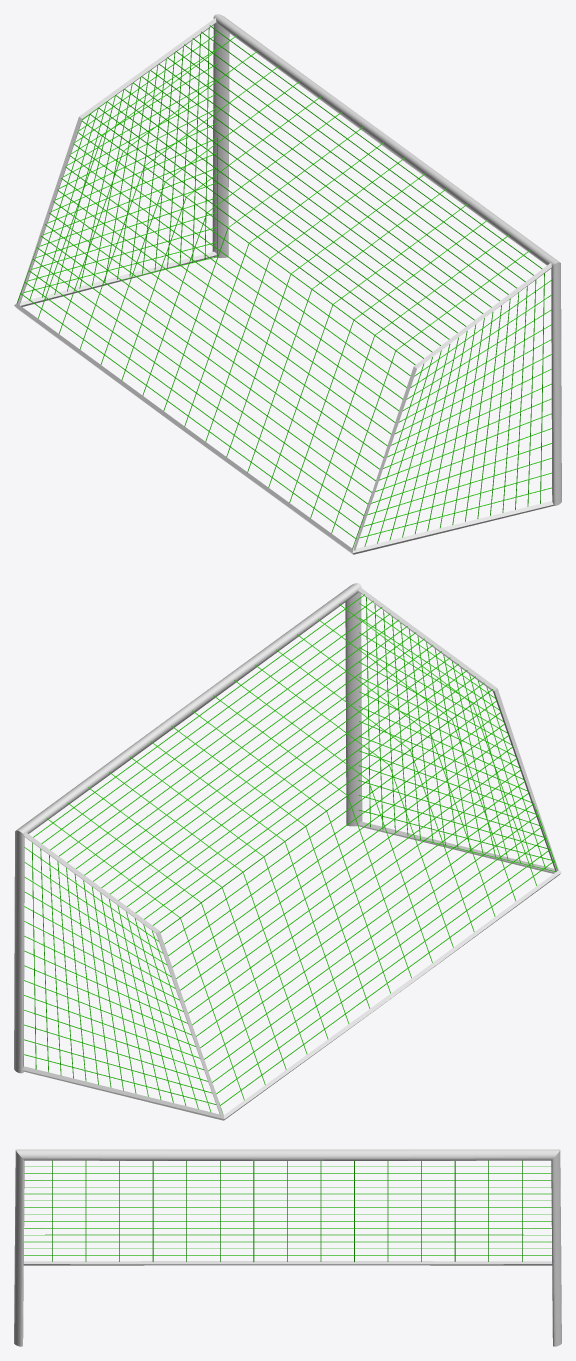
File: GAWANG.fbx
The picture shows the model from 3 angles, top to bottom: view 1: azimuth 30°, elevation 25°; view 2: azimuth 150°, elevation 25°; view 3: azimuth 270°, elevation 25°; orthographic projection. The views are drawn at different scales.
Visible parts, largest first — view 1: Cube, Cylinder, Plane; view 2: Cube, Cylinder, Plane; view 3: Cube, Cylinder, Plane.
Boxes of the visible parts, x1,y1,x2,y2 form: Cube: (17,25,551,548); Cylinder: (212,14,561,505); Plane: (14,18,553,554); Cube: (23,594,557,1114); Cylinder: (14,583,362,1073); Plane: (23,586,561,1120); Cube: (24,1160,551,1261); Cylinder: (14,1149,561,1346); Plane: (23,1261,552,1265).
Size of the model in its own units: 190 by 207 by 527.
